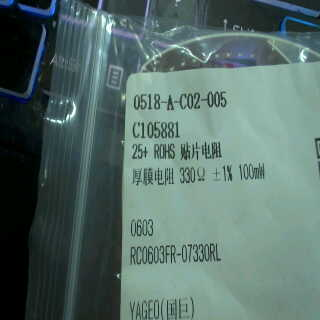330R: (177, 165, 208, 186)
